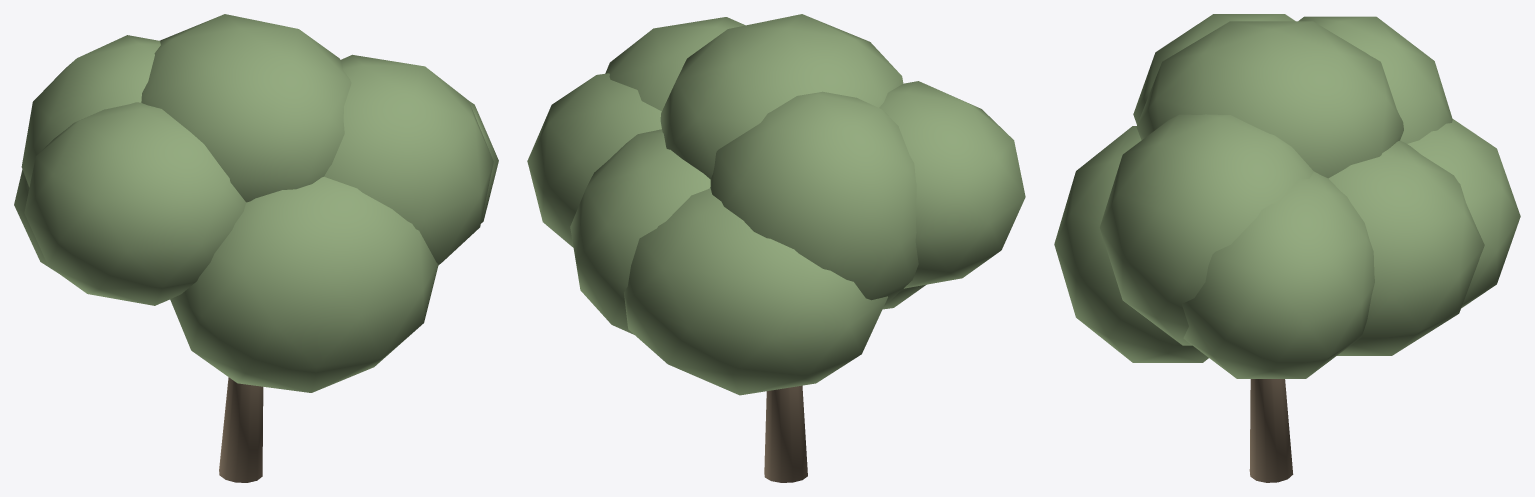
File: SM_OrchardTree1.fbx
3 views of the same model, side by side, from view 1: azimuth 30°, elevation 25°; view 2: azimuth 150°, elevation 25°; view 3: azimuth 270°, elevation 25° (orthographic).
Parts seen in each view (by area): view 1: SM_OrchardTree1; view 2: SM_OrchardTree1; view 3: SM_OrchardTree1.
Boxes of the visible parts, x1,y1,x2,y2 form: SM_OrchardTree1: (14, 14, 498, 482); SM_OrchardTree1: (527, 14, 1025, 482); SM_OrchardTree1: (1054, 14, 1520, 482).
Size of the model in its own units: 652 by 587 by 616.
